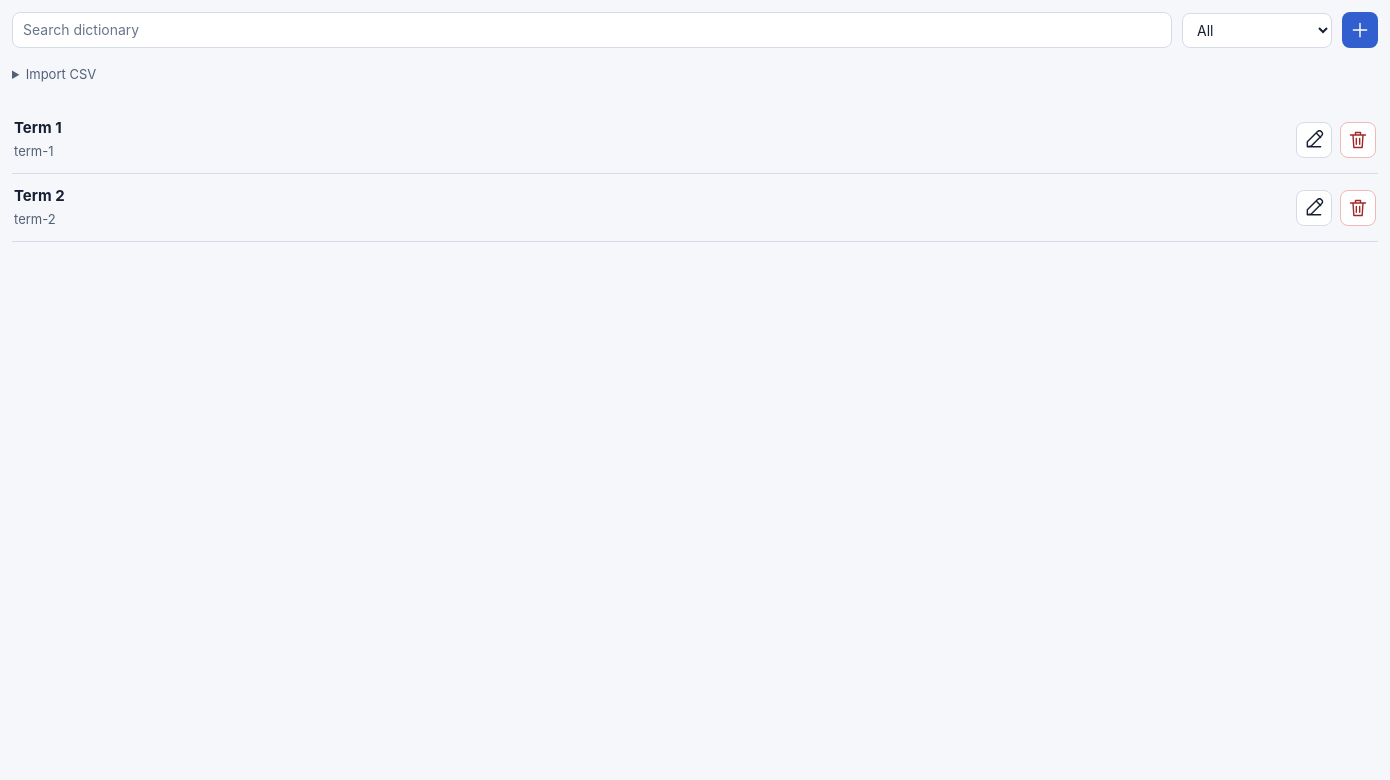
Test case: switching the edited entry moves focus to the updated editor
The width and height of the screenshot is (1390, 780).
Click the button named "Edit:" at (1314, 140), box [1296,122,1332,158]
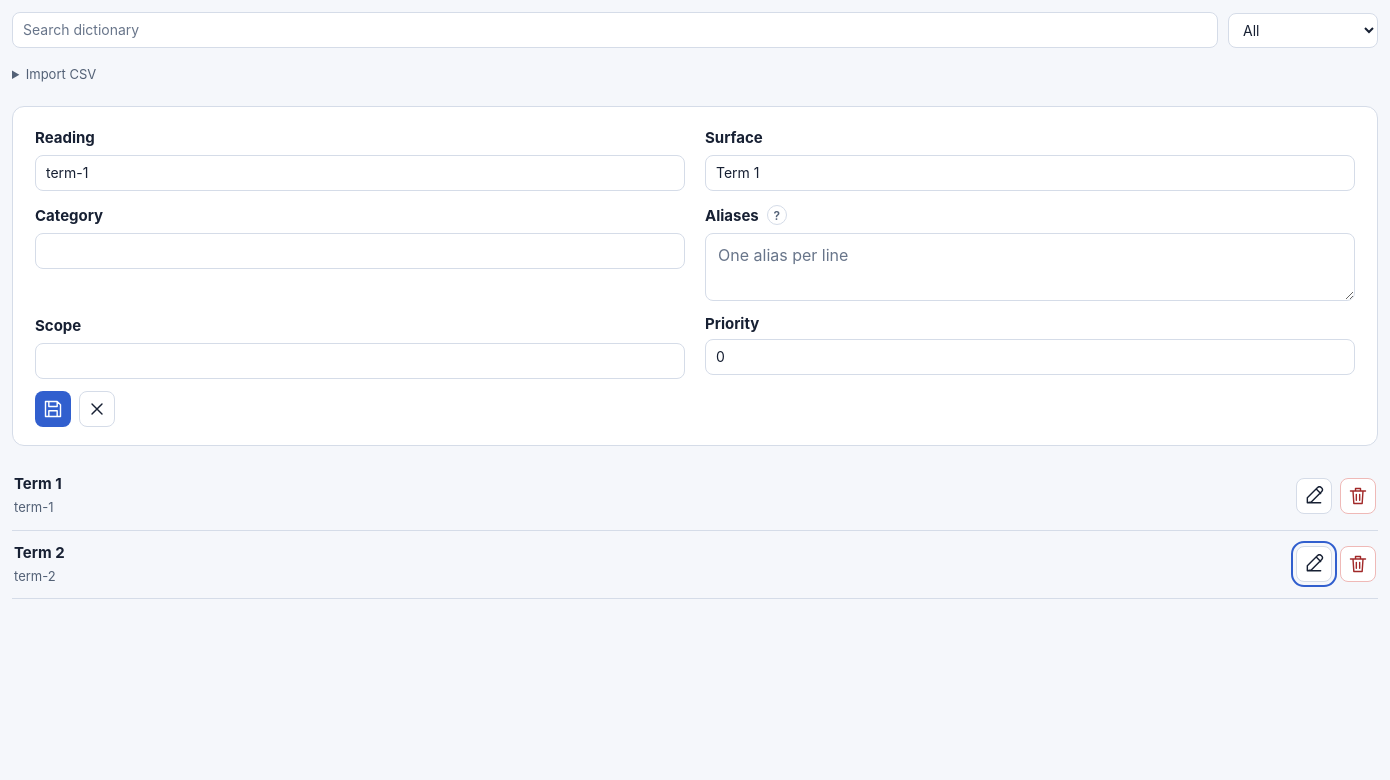
Click the button named "Edit:" at (1314, 564), box [1296,546,1332,582]
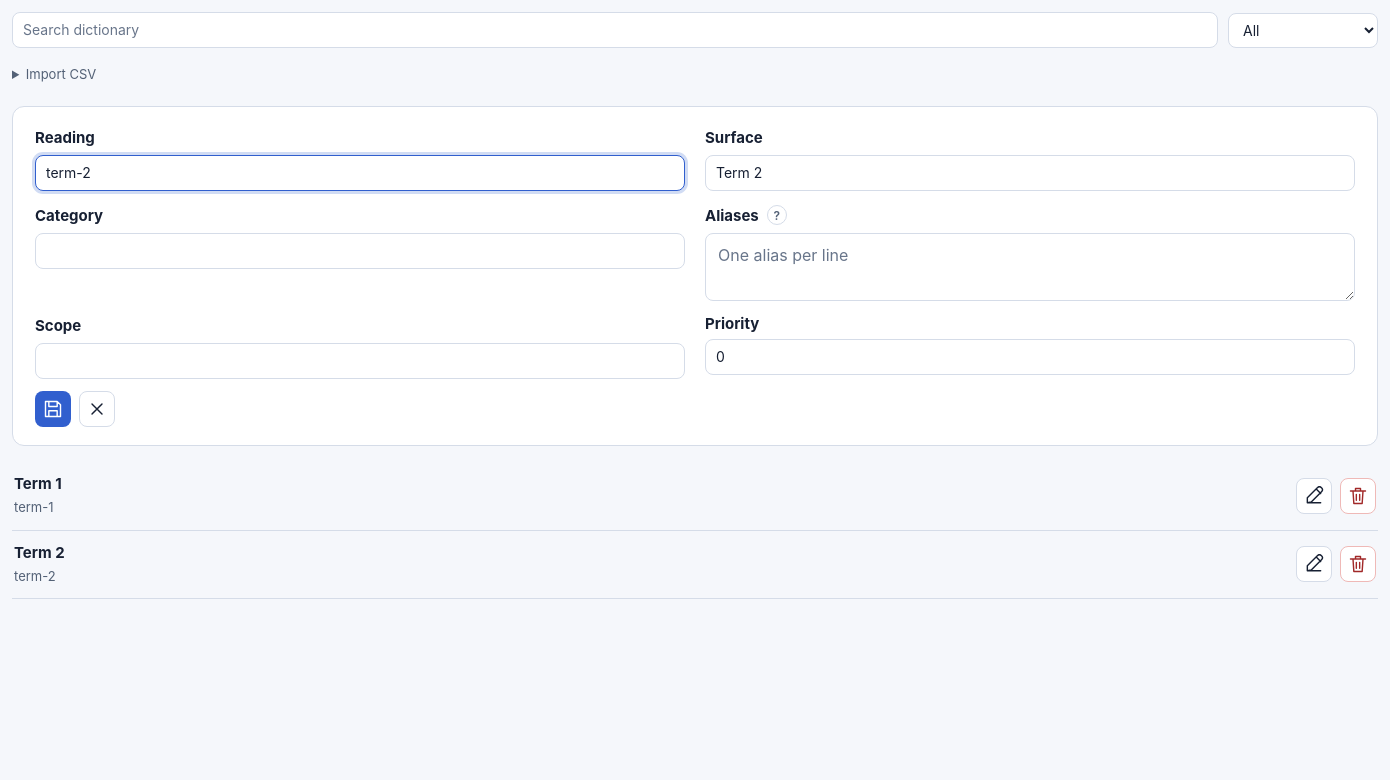
Expected: the field named "Reading" holds "term-2", [35,155,685,191]
